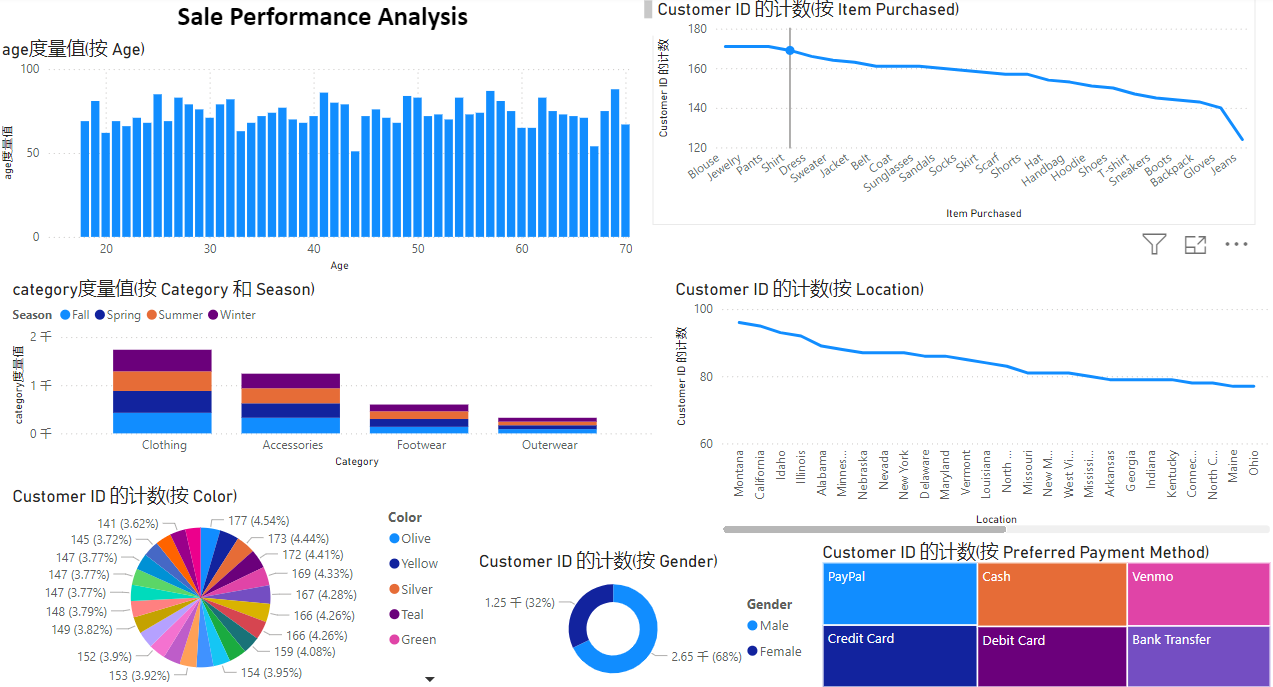

Layout of this report page (visuals, bound fields, positions):
{"tool":"powerbi","page":{"name":"第 1 页","canvas":[1280,720],"ordinal":0},"visuals":[{"type":"columnChart","fields":{"Category":["shopping_trends.Age"],"Y":["shopping_trends.age度量值"]},"box":[0,40.5,641.3,240.3],"z":0},{"type":"columnChart","fields":{"Category":["shopping_trends.Category"],"Y":["shopping_trends.category度量值"],"Series":["shopping_trends.Season"]},"box":[10.5,280.8,650.3,196.7],"z":1000},{"type":"pieChart","fields":{"Category":["shopping_trends.Color"],"Y":["CountNonNull(shopping_trends.Customer ID)"]},"box":[10.5,488.1,467.1,210.2],"z":2000},{"type":"donutChart","fields":{"Category":["shopping_trends.Gender"],"Y":["CountNonNull(shopping_trends.Customer ID)"]},"box":[476.9,553.4,344,143.7],"z":3000},{"type":"lineChart","fields":{"Category":["shopping_trends.Item Purchased"],"Y":["CountNonNull(shopping_trends.Customer ID)"]},"box":[655.8,0,603.8,229.3],"z":4000},{"type":"lineChart","fields":{"Category":["shopping_trends.Location"],"Y":["CountNonNull(shopping_trends.Customer ID)"]},"box":[674.3,280.8,605.2,262.8],"z":5000},{"type":"treemap","fields":{"Group":["shopping_trends.Preferred Payment Method"],"Values":["CountNonNull(shopping_trends.Customer ID)"]},"box":[821,543,458,154],"z":6000},{"type":"textbox","box":[0,0,660.8,40.5],"z":6001}]}

Visuals, with their boxes on the page's 1280x720 design canvas (x1, y1, x2, y2). These are canvas units, not pixel positions in the 1273x687 screenshot, which may show the page scaled, cropped or inside an application window:
columnChart - shopping_trends.Age x shopping_trends.age度量值: 0 40 641 281
columnChart - shopping_trends.Category x shopping_trends.category度量值: 10 281 661 478
pieChart - shopping_trends.Color x CountNonNull(shopping_trends.Customer ID): 10 488 478 698
donutChart - shopping_trends.Gender x CountNonNull(shopping_trends.Customer ID): 477 553 821 697
lineChart - shopping_trends.Item Purchased x CountNonNull(shopping_trends.Customer ID): 656 0 1260 229
lineChart - shopping_trends.Location x CountNonNull(shopping_trends.Customer ID): 674 281 1280 544
treemap - shopping_trends.Preferred Payment Method x CountNonNull(shopping_trends.Customer ID): 821 543 1279 697
textbox: 0 0 661 40
